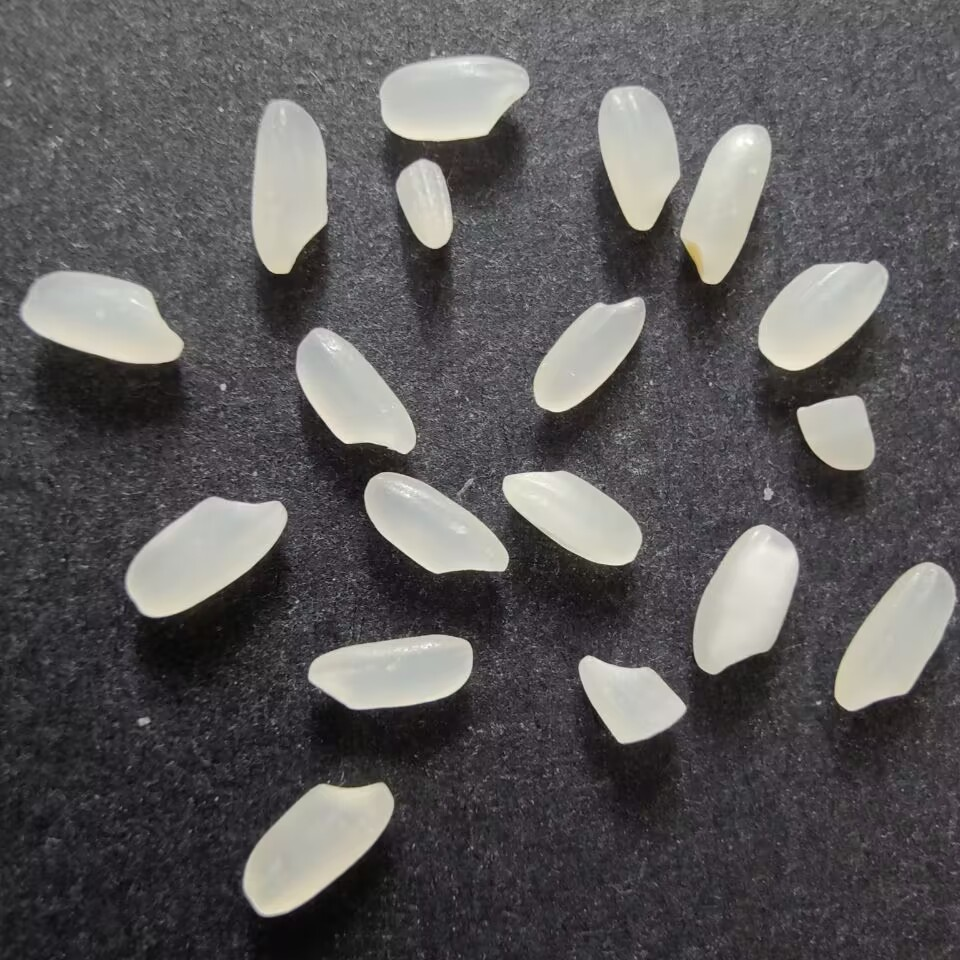broken: (577, 650, 689, 750), (793, 393, 879, 478), (392, 157, 458, 253)
rice: (241, 775, 400, 925), (125, 489, 288, 622), (831, 558, 958, 712), (358, 469, 514, 584), (690, 523, 802, 680), (15, 268, 191, 365), (294, 327, 420, 458), (678, 119, 775, 286), (754, 255, 891, 373), (248, 96, 332, 281), (375, 51, 533, 148), (496, 469, 645, 569), (530, 295, 649, 417), (306, 630, 476, 715), (595, 82, 681, 238)
